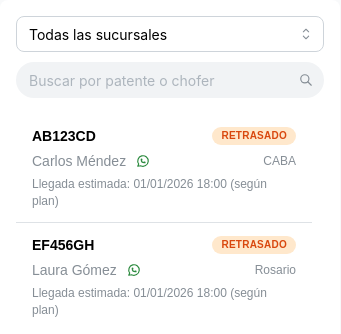
Test: MapListadoViajes › el buscador ignora acentos: "mendez" encuentra a "Carlos Méndez" y "gomez" a "Laura Gómez" (SHG-FE-139)
Type "mendez" into the field with placeholder "Buscar por patente o chofer" at point(170, 80), box [16,62,324,98]
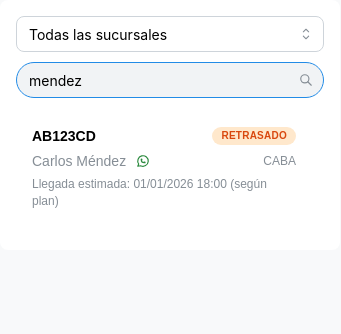
Expected: the text "AB123CD" is shown, [32,126,96,146]
Result: the text "EF456GH" is gone
Replace the text in the field with placeholder "Buscar por patente o chofer" with "GÓMEZ" at point(170, 80), box [16,62,324,98]
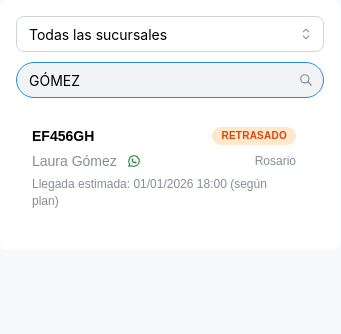
Result: the text "EF456GH" is shown at [32,126,94,146]
Result: the text "AB123CD" is gone
